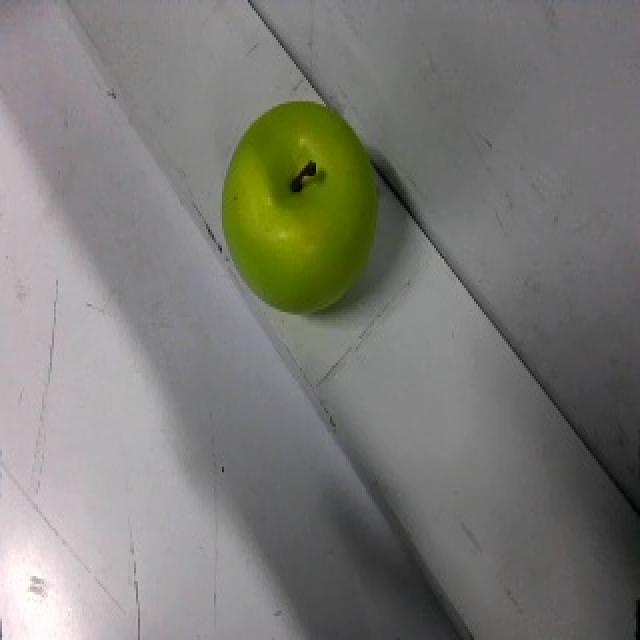apple: (220, 96, 380, 318)
